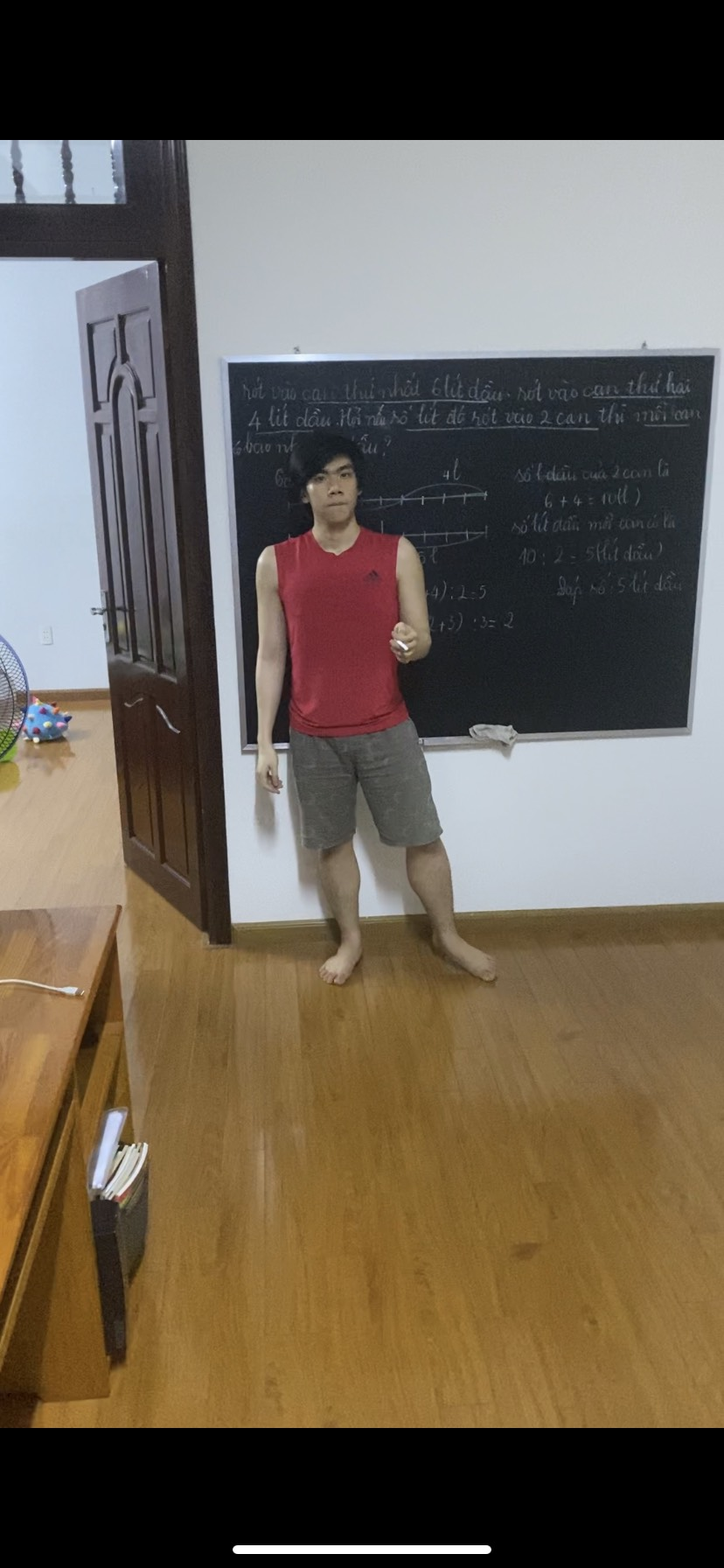cigarette: (394, 638, 411, 654)
person: (248, 432, 498, 993)
